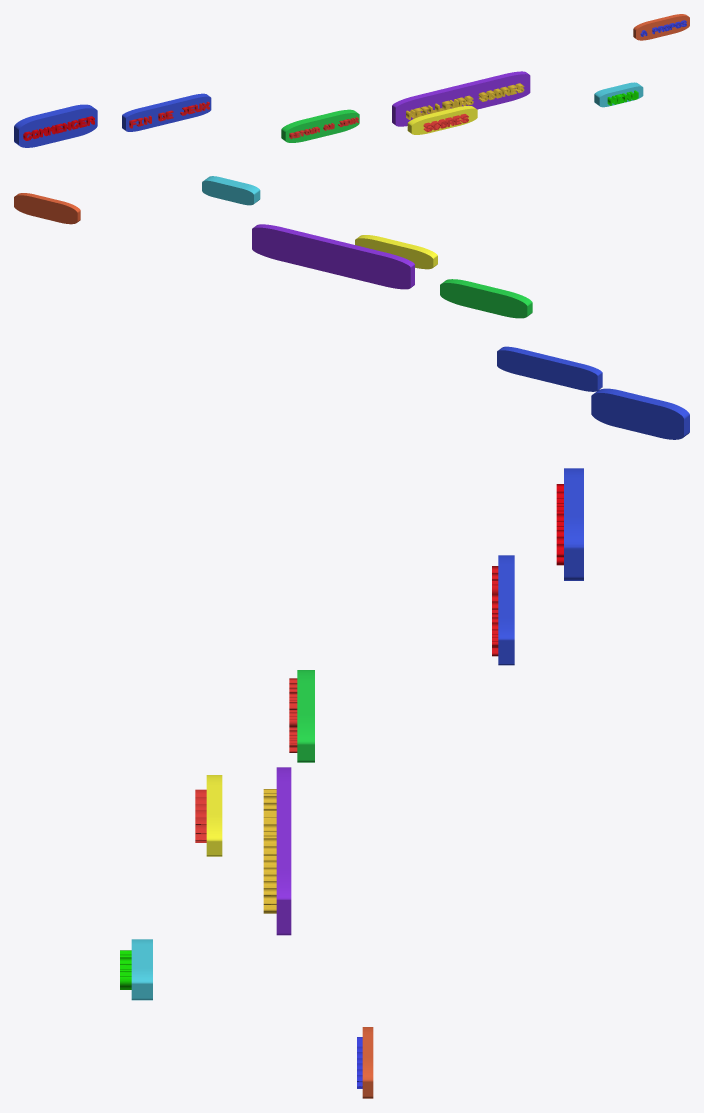
File: buttons-Julian-laptop.gltf
3 views of the same model, one above another, from view 1: azimuth 30°, elevation 25°; view 2: azimuth 150°, elevation 25°; view 3: azimuth 270°, elevation 25° (orthographic). The views are drawn at different scales.
Parts seen in each view (by area): view 1: Score, start, gameOver, BTG, Scores_Bouton, About, MENU; view 2: Score, start, gameOver, BTG, About, Scores_Bouton, MENU; view 3: Score, start, gameOver, BTG, Scores_Bouton, MENU, About.
Part boxes in pixels (x1,y1,x2,y2): Score: (392,71,530,126); start: (14,104,97,147); gameOver: (122,93,211,131); BTG: (281,109,359,142); Scores_Bouton: (407,106,477,134); About: (633,14,689,40); MENU: (594,82,643,107); Score: (252,224,414,289); start: (591,388,689,439); gameOver: (497,346,602,391); BTG: (440,279,532,318); About: (14,193,80,224); Scores_Bouton: (355,235,437,269); MENU: (202,176,260,205); Score: (263,767,291,935); start: (556,468,583,580); gameOver: (492,555,514,665); BTG: (289,670,314,762); Scores_Bouton: (195,775,222,856); MENU: (120,939,152,1000); About: (357,1027,373,1098).
Size of the model in its own units: 97.83 by 4.08 by 31.69.
